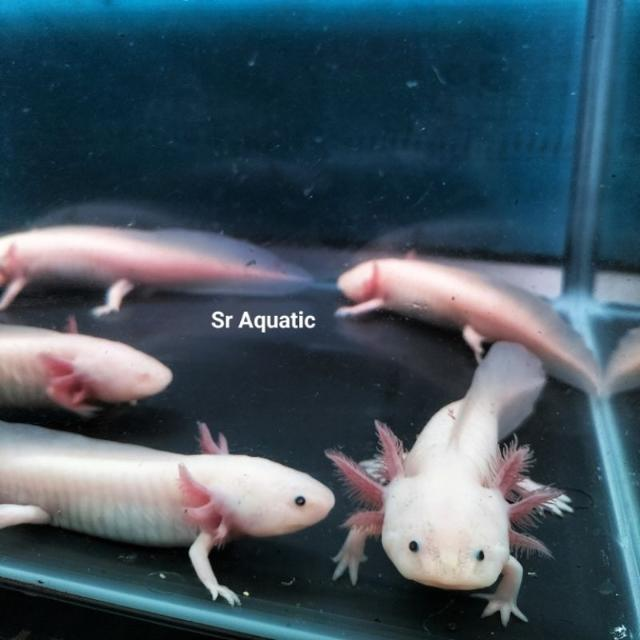Sirip Ekor: (187, 200, 329, 334), (462, 322, 560, 434), (543, 300, 629, 420)
